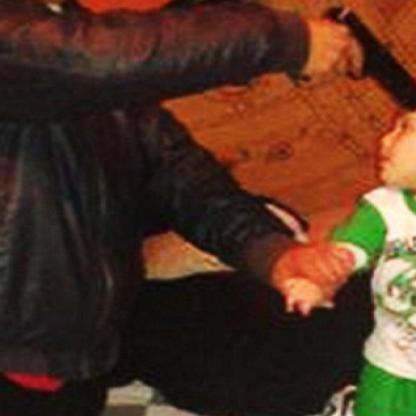gun: (281, 0, 415, 116)
